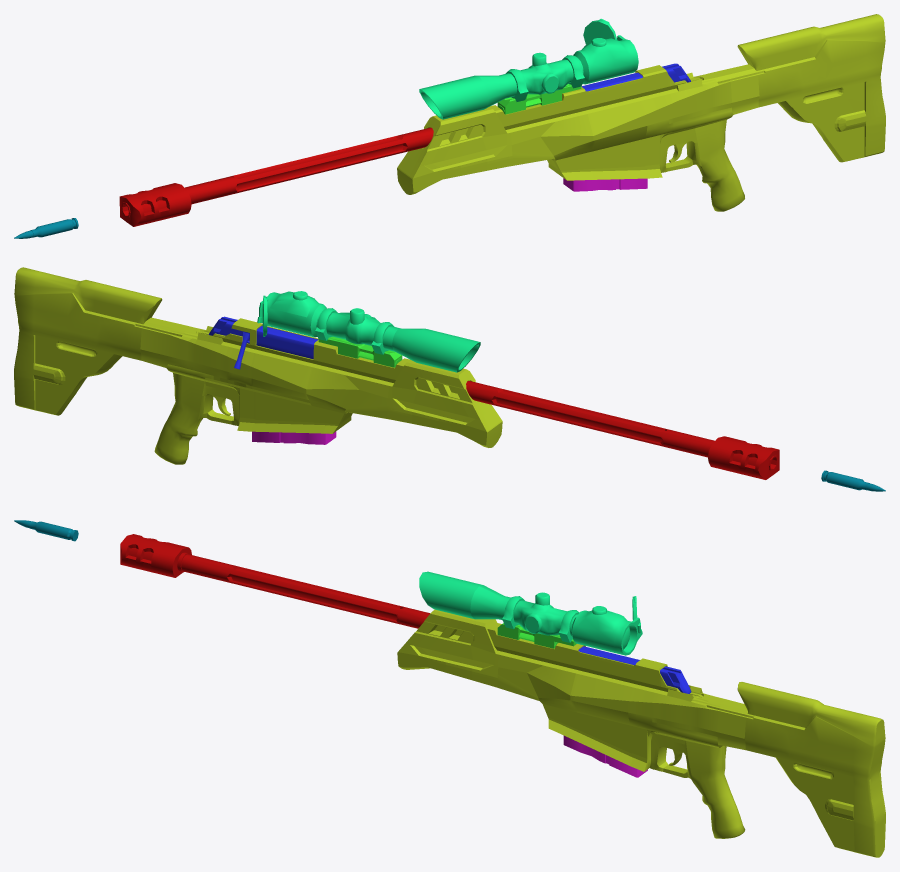
Rendered from OpDefinitivo.fbx.
3 views of the same model, one above another, from view 1: azimuth 30°, elevation 25°; view 2: azimuth 150°, elevation 25°; view 3: azimuth 330°, elevation 25° (orthographic).
Parts seen in each view (by area): view 1: Body001, Bala; view 2: Body001, Bala; view 3: Body001.
Boxes of the visible parts, x1,y1,x2,y2 form: Body001: (119,14,885,226); Bala: (14,218,78,238); Body001: (14,267,779,479); Bala: (821,470,885,491); Body001: (120,534,885,857).
Size of the model in its own units: 227 by 50.81 by 16.8.
